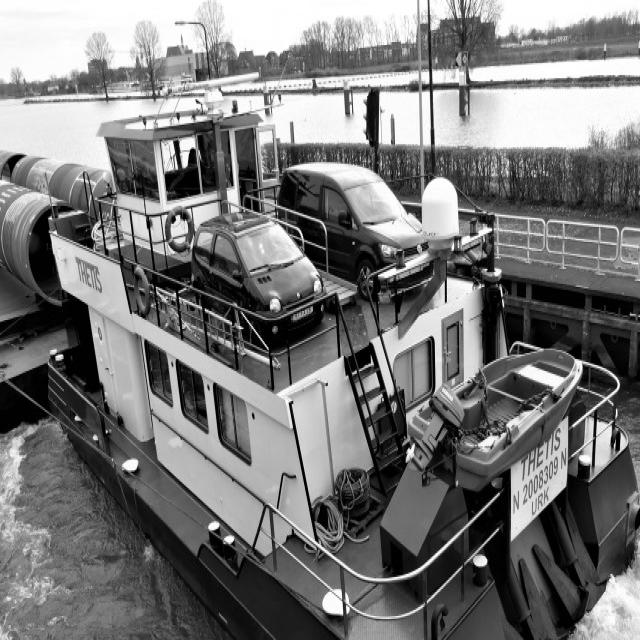tugboat: (39, 67, 640, 640)
